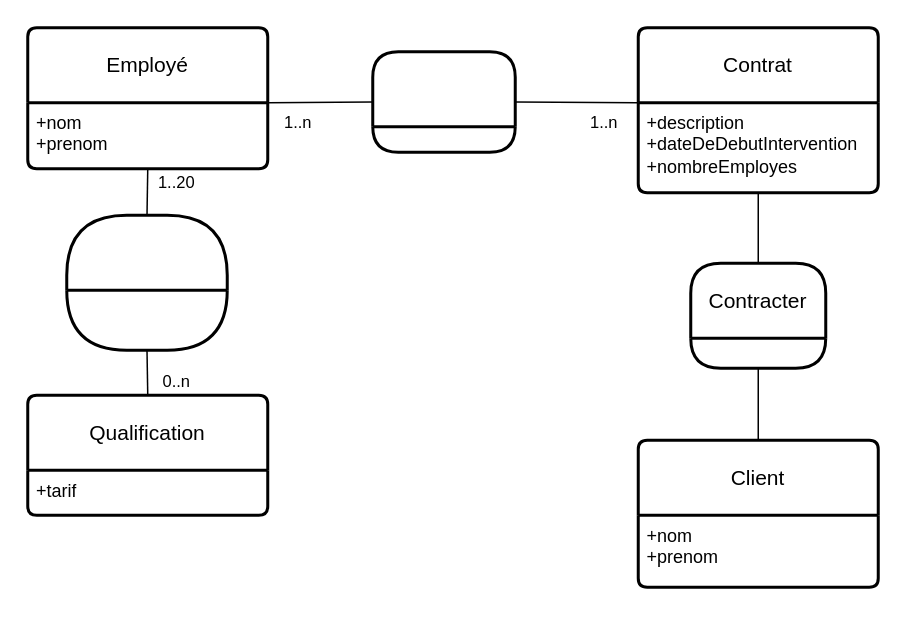
This 905x617 diagram has some shape labels left out. Each missing label, with the centre of its shape:
Effectuer: the point at 443,101
Posséder: the point at 146,282
